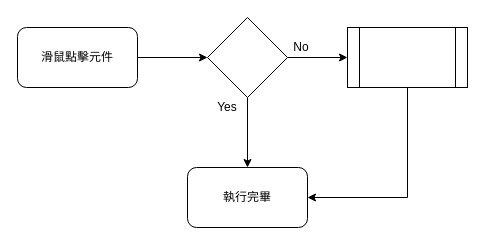
Some shapes in this 485 by 245 pixel diagram are drawn without their labels. Here are the shapes that lost their labels. From the top down, the box of each, then its label:
(206, 16, 288, 98): 元件勿駐
(346, 26, 468, 88): 元件駐留
